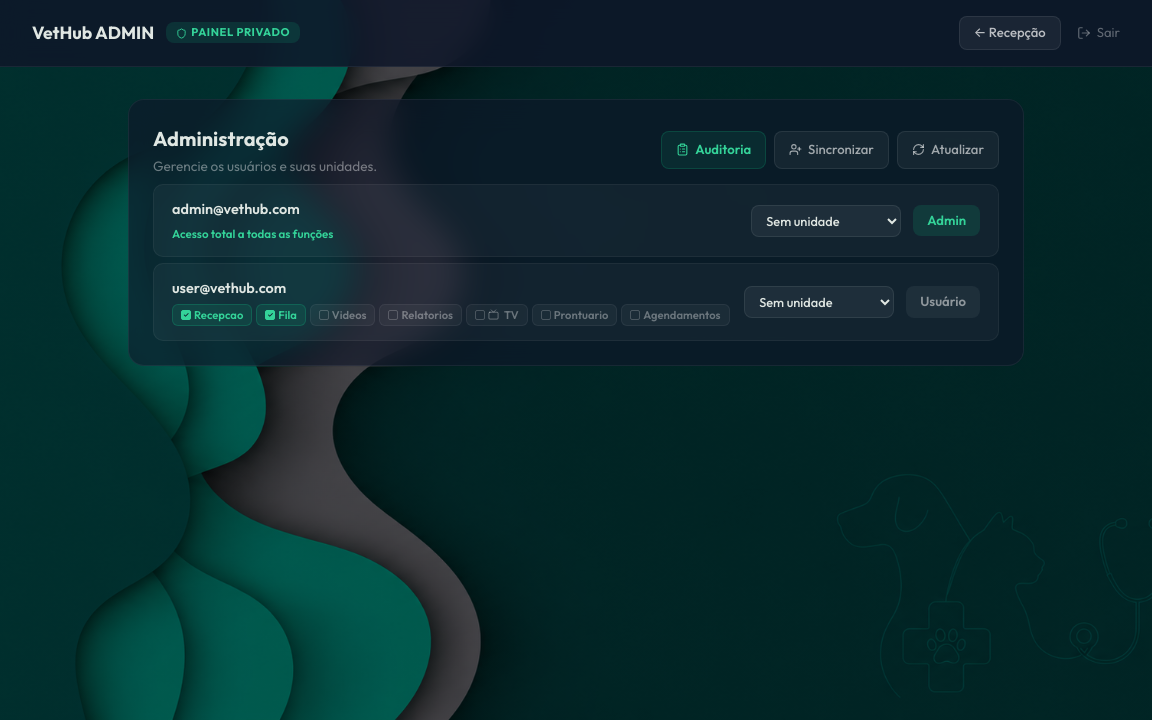
Test: AdminPage › should show sync result message
The image size is (1152, 720).
Check: the heading "Administração" is shown, box [153,126,289,151]
Click the button "Sincronizar" at [832, 150], box [774,131,889,169]
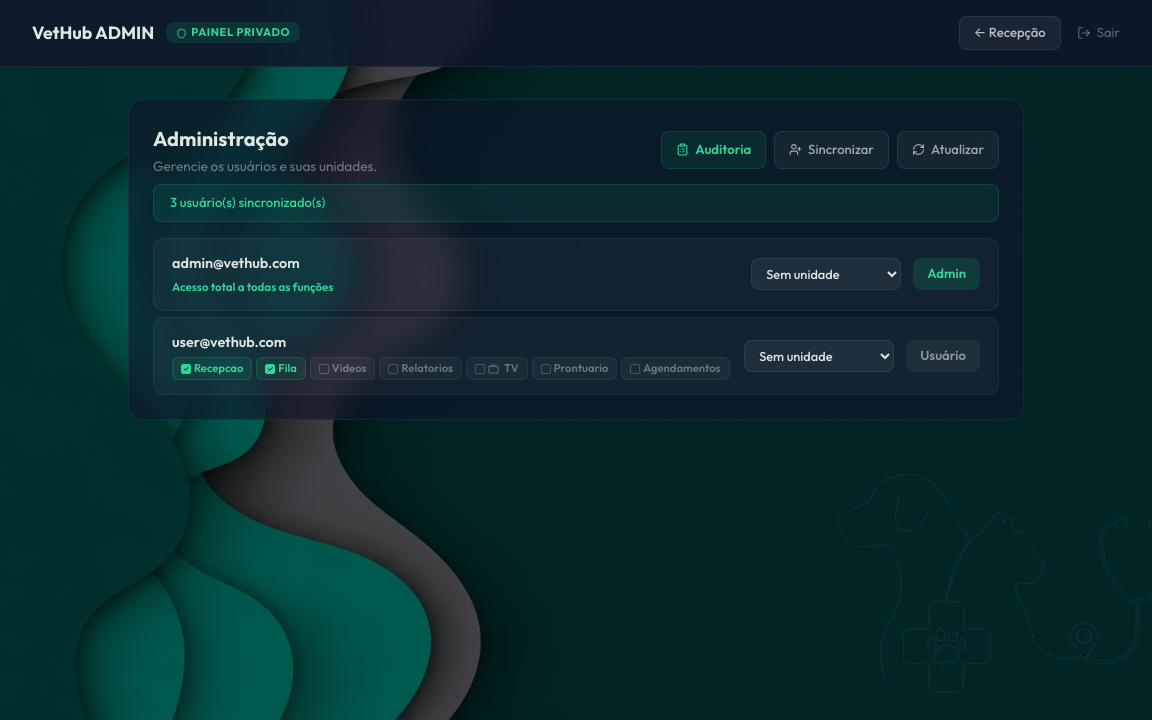
Check: the text "3 usuário(s) sincronizado(s)" is shown, box [153,184,999,222]
